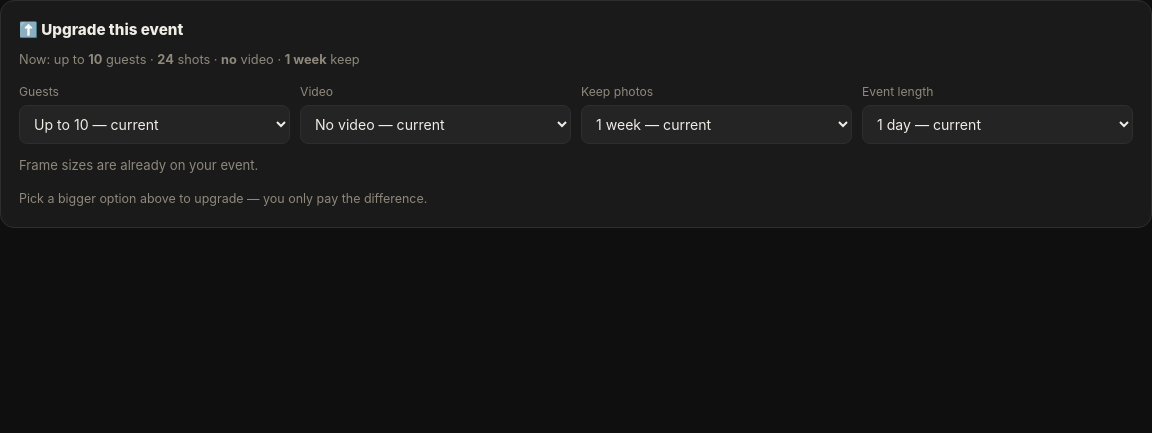
the upgrade breakdown tells a host what they already have › brings it out as soon as a selection costs something
Select "10s clips — free (normally +$5.00)" in the dropdown labelled "Video": (436, 125) [300, 105, 571, 144]
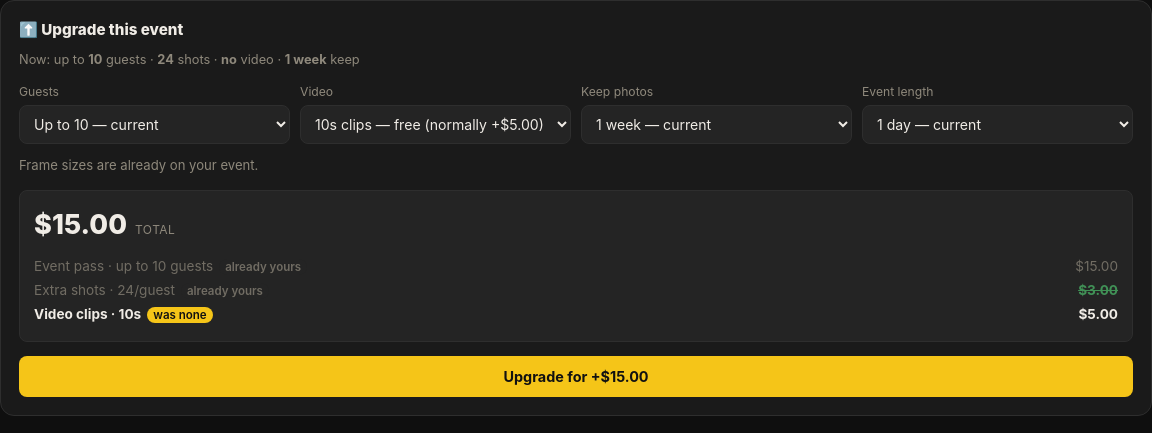
Check: the element that starts with "total" is shown, box [19, 190, 1133, 342]
